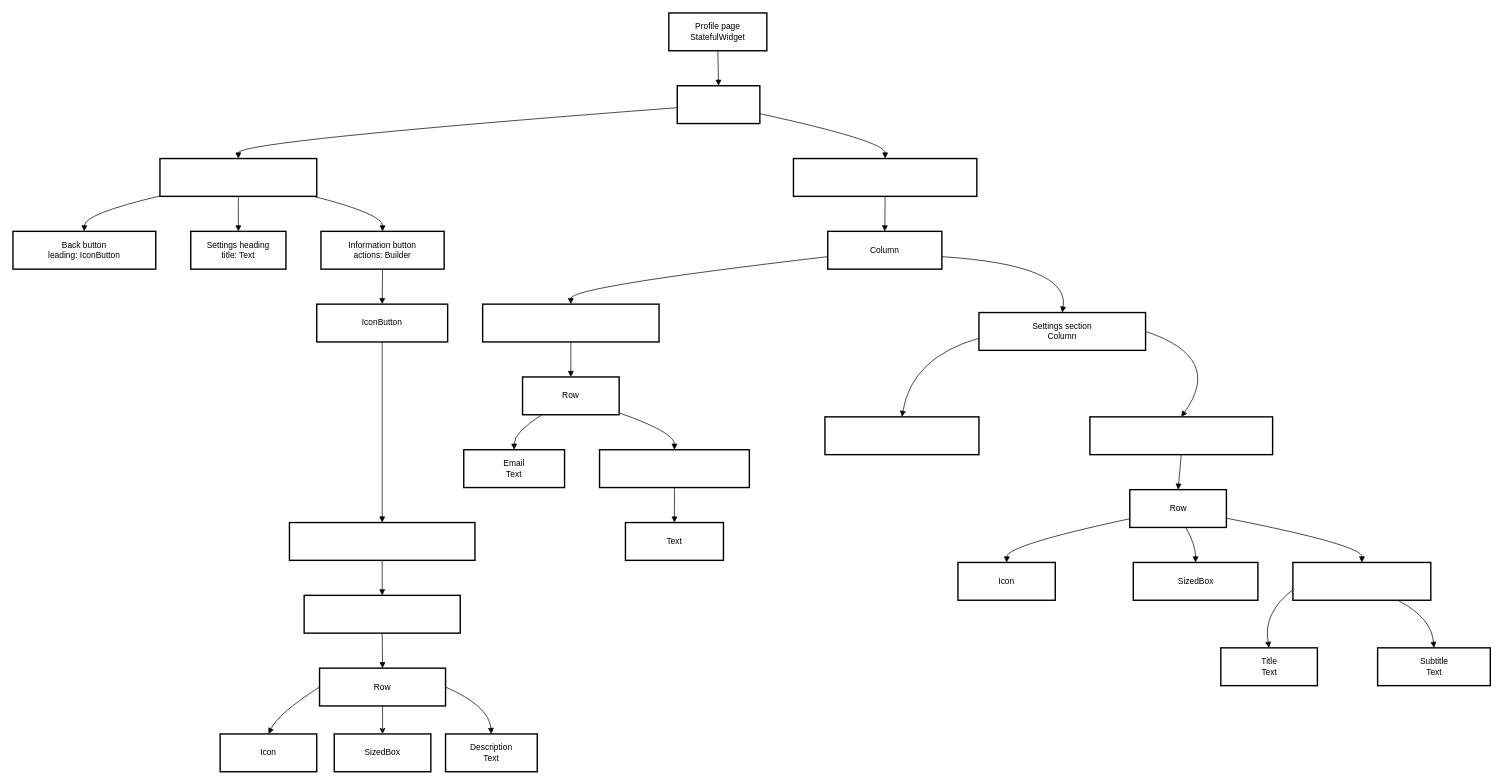
Image size: 1503x784. Some labels were removed from this diagram. Here are the shapes that lost their labels. From the top down, the centre of each, then its label:
At pixel 718 104: "Scaffold".
At pixel 238 177: "Profile header AppBar".
At pixel 884 177: "Profile body SingleChildScrollView".
At pixel 570 322: "Profile info card Container".
At pixel 901 435: "Divider".
At pixel 1181 435: "Settings item InkWell".
At pixel 674 468: "Plan label Container".
At pixel 381 541: "Popup menu RenderBox".
At pixel 1361 581: "Column & Expanded".
At pixel 382 614: "Menu item InkWell".
